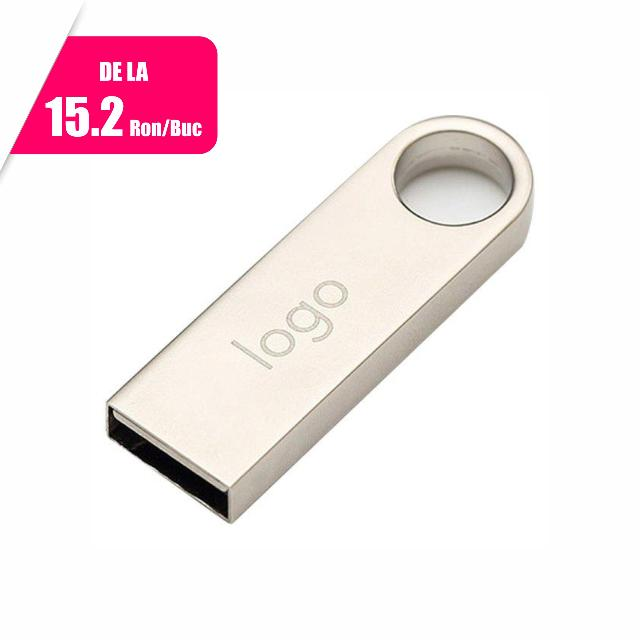USB-Flash-Drive: (105, 115, 536, 524)
